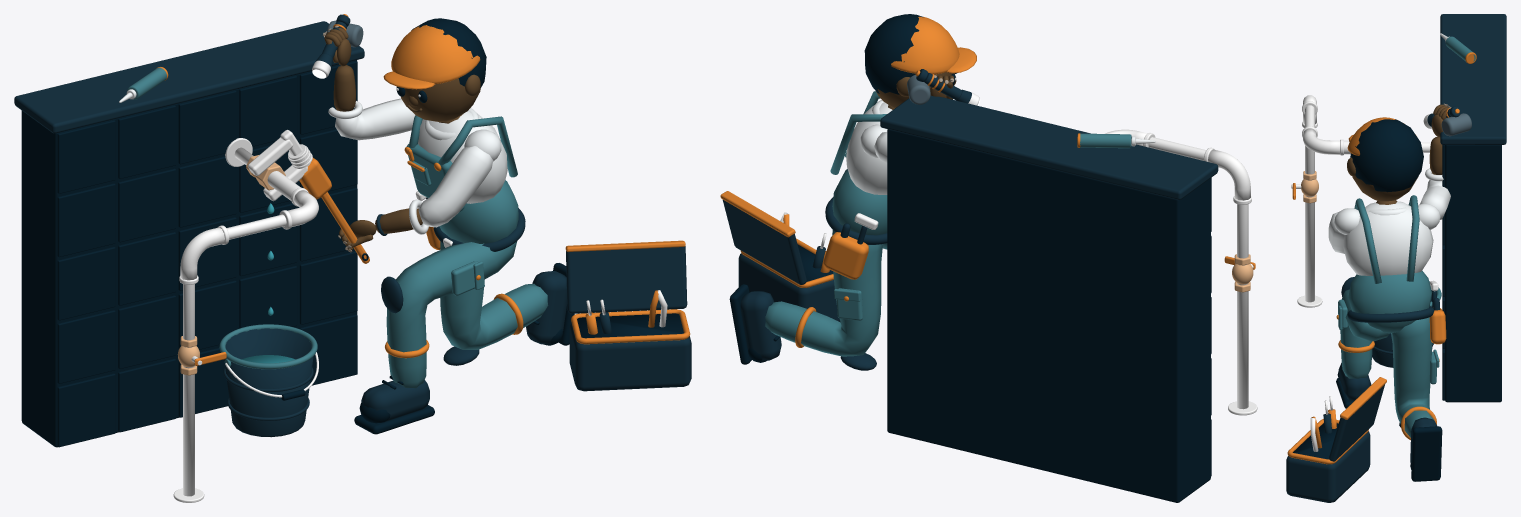
File: bild-2.glb
3 renders of one model, left to right at view 1: azimuth 30°, elevation 25°; view 2: azimuth 150°, elevation 25°; view 3: azimuth 270°, elevation 25°, orthographic. The views are drawn at different scales.
Visible parts, largest first — view 1: Fliese00, Abdeckung, Fachkraft1Schnur0, FachkraftBauch, Deckelrand, Bodenrosette, FachkraftArm1, Eimer, Fachkraft1Daumen, Eimerrand, Anschluss; view 2: Fachkraft1Schnur0, Abdeckung, FachkraftBauch, Deckelrand, Bodenrosette, FachkraftArm1, Fachkraft1Daumen, Eimerrand, Anschluss; view 3: Fachkraft1Schnur0, Abdeckung, FachkraftBauch, FachkraftArm1, Bodenrosette, Deckelrand, Fachkraft1Daumen, Fliese00, Eimer, Lappenrolle, Anschluss, Eimerrand.
Part boxes in pixels (x1=…): Fliese00: x1=57, y1=61, x2=357, y2=447; Abdeckung: x1=14, y1=14, x2=691, y2=421; Fachkraft1Schnur0: x1=21, y1=18, x2=683, y2=447; FachkraftBauch: x1=386, y1=115, x2=548, y2=388; Deckelrand: x1=156, y1=14, x2=690, y2=365; Bodenrosette: x1=173, y1=60, x2=667, y2=502; FachkraftArm1: x1=328, y1=98, x2=507, y2=234; Eimer: x1=224, y1=328, x2=313, y2=437; Fachkraft1Daumen: x1=324, y1=28, x2=480, y2=249; Eimerrand: x1=127, y1=67, x2=317, y2=369; Anschluss: x1=177, y1=155, x2=285, y2=375; Fachkraft1Schnur0: x1=729, y1=14, x2=1210, y2=502; Abdeckung: x1=722, y1=69, x2=1218, y2=370; FachkraftBauch: x1=765, y1=91, x2=887, y2=356; Deckelrand: x1=720, y1=16, x2=1255, y2=347; Bodenrosette: x1=780, y1=92, x2=1257, y2=415; FachkraftArm1: x1=846, y1=100, x2=892, y2=194; Fachkraft1Daumen: x1=876, y1=72, x2=956, y2=109; Eimerrand: x1=1080, y1=133, x2=1131, y2=148; Anschluss: x1=1232, y1=254, x2=1253, y2=292; Fachkraft1Schnur0: x1=1293, y1=119, x2=1501, y2=481; Abdeckung: x1=1286, y1=14, x2=1506, y2=502; FachkraftBauch: x1=1338, y1=195, x2=1439, y2=437; FachkraftArm1: x1=1328, y1=168, x2=1450, y2=275; Bodenrosette: x1=1291, y1=95, x2=1431, y2=451; Deckelrand: x1=1287, y1=52, x2=1476, y2=464; Fachkraft1Daumen: x1=1347, y1=104, x2=1449, y2=204; Fliese00: x1=1442, y1=144, x2=1444, y2=400; Eimer: x1=1372, y1=290, x2=1432, y2=367; Lappenrolle: x1=1441, y1=113, x2=1471, y2=136; Anschluss: x1=1301, y1=171, x2=1318, y2=203; Eimerrand: x1=1429, y1=36, x2=1475, y2=306.
Bounding box in the file's own units: 2.37 × 1.46 × 0.9634.
